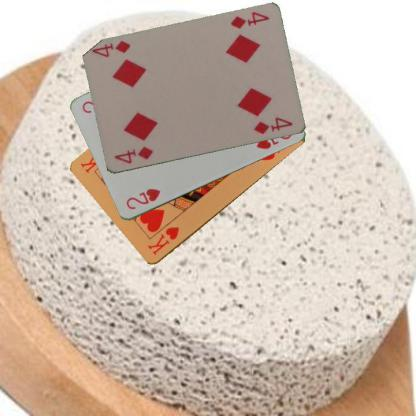2h: (123, 186, 162, 212)
4d: (226, 9, 271, 31), (112, 144, 154, 165)
Kh: (144, 224, 181, 257)
